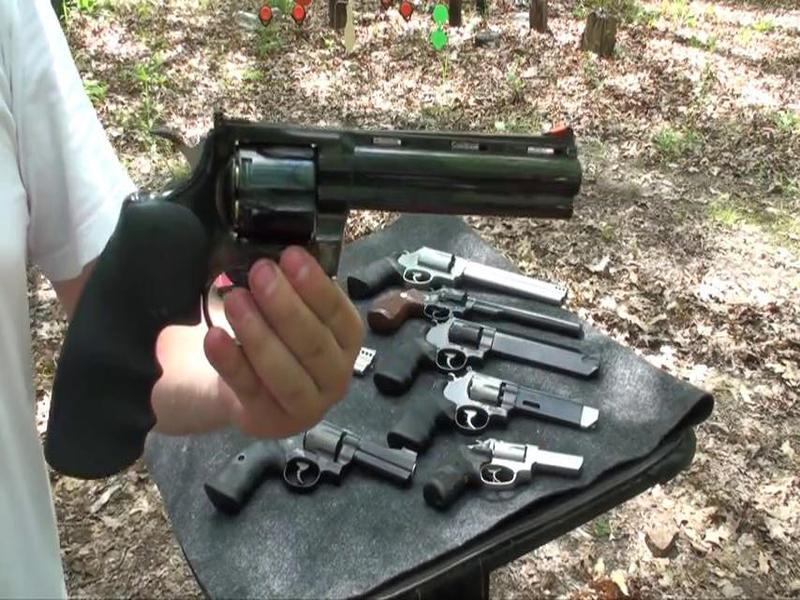Revolver: (47, 107, 595, 484)
